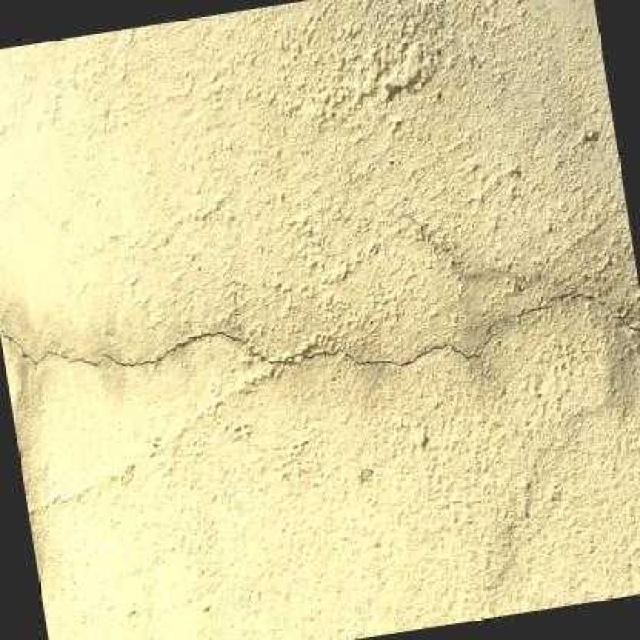D00: (0, 288, 640, 371)
